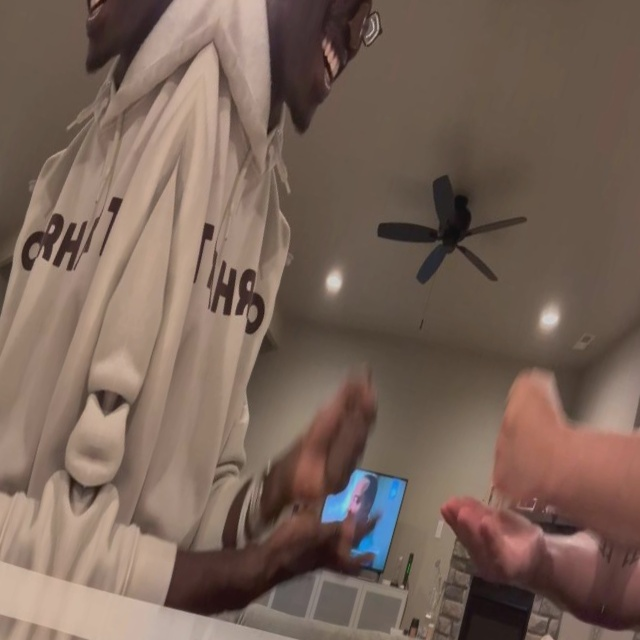Rock: (288, 358, 389, 516), (475, 363, 577, 519)
